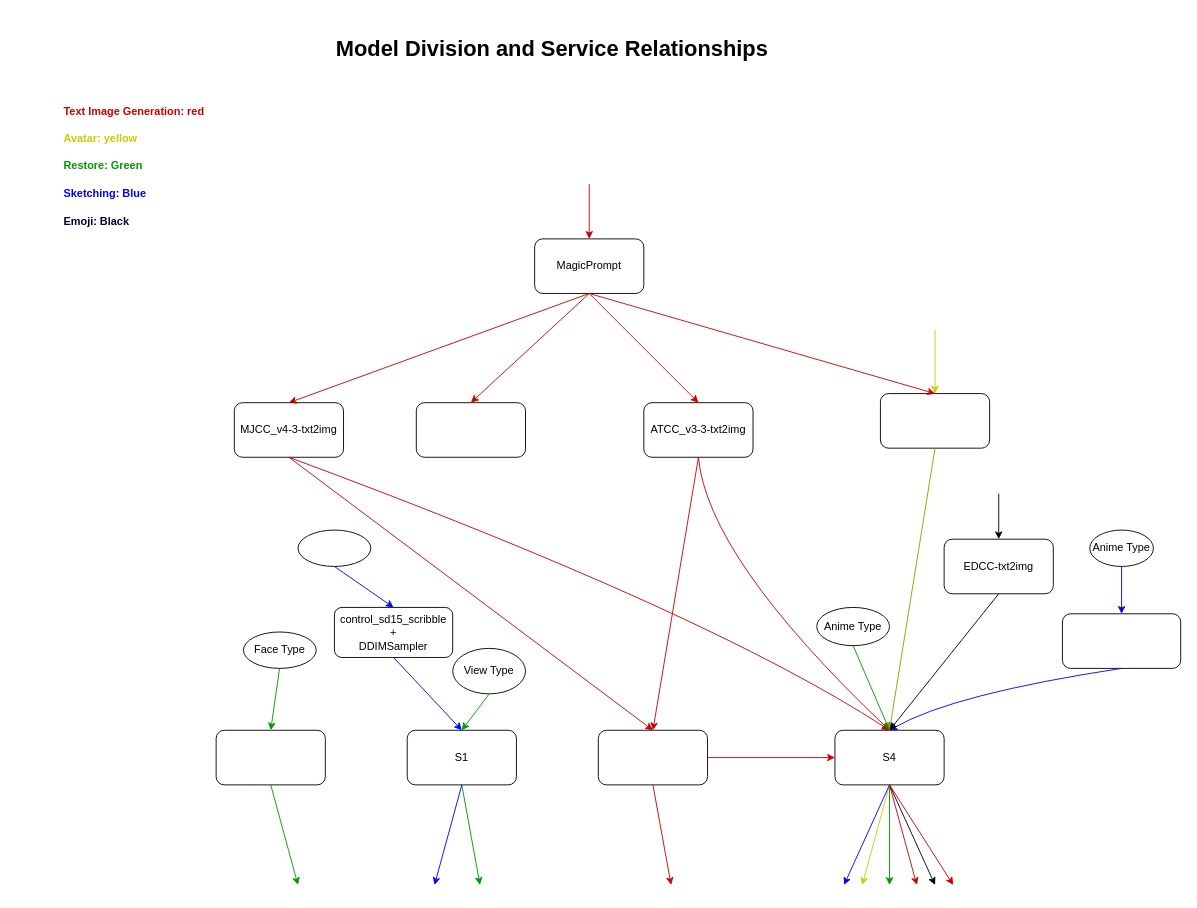
Some shapes in this 1197 by 908 pixel diagram are drawn without their labels. The centre of each missing label's shape, as x and y in pixels:
ATCC_v3-3-img2img: [935,420]
control_any3_scribble + DDIMSampler: [1121,640]
face_enhance: [270,757]
MJCC_v4-3-img2img: [470,429]
Reality Type: [334,547]
S2: [652,757]
